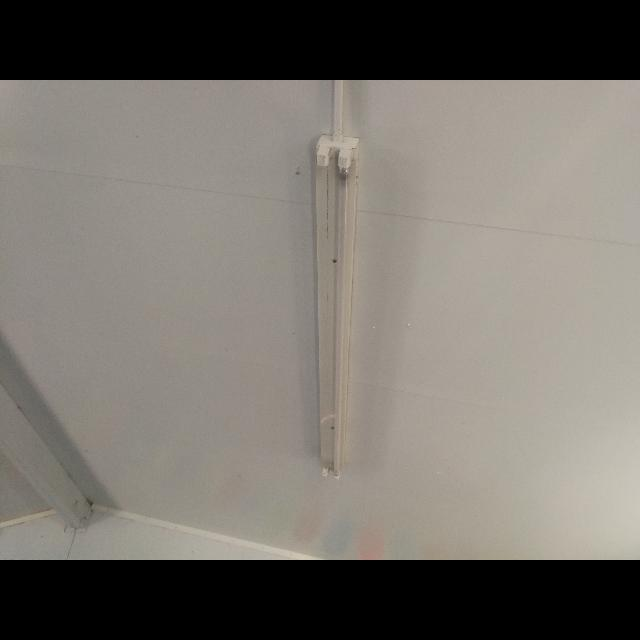Straight-Tube-Fluorescent-Lamp: (297, 120, 365, 488)
